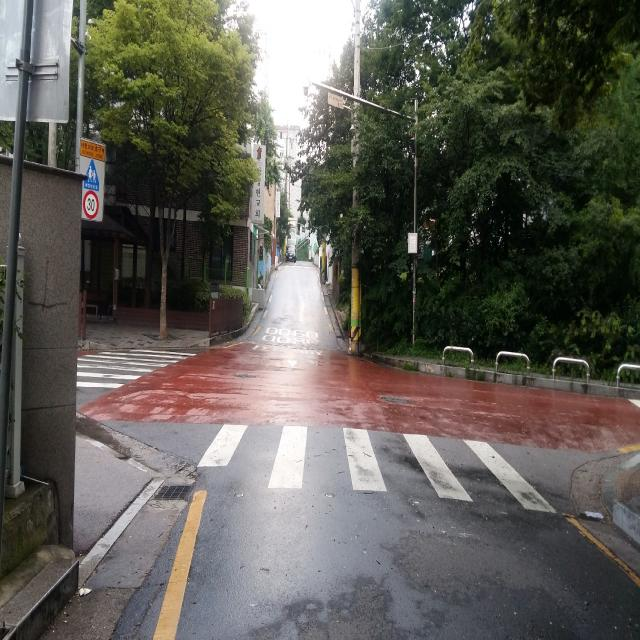횡단보도: (164, 422, 547, 529), (76, 349, 197, 388)
